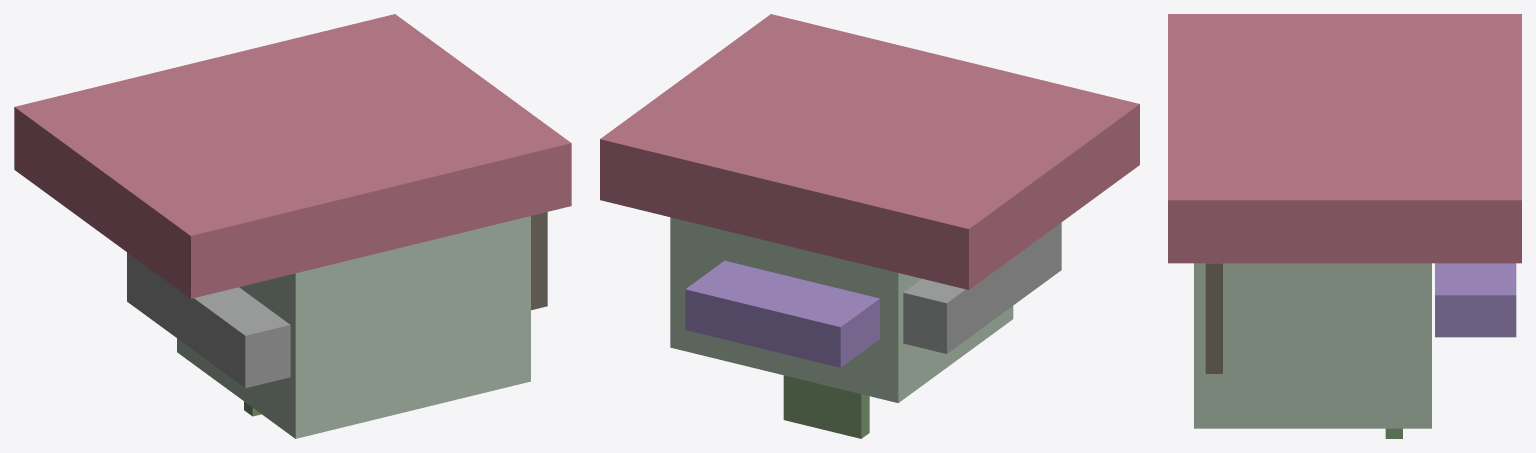
The model's file is 199542_pred.glb.
The picture shows the model from 3 angles, left to right: view 1: azimuth 30°, elevation 25°; view 2: azimuth 150°, elevation 25°; view 3: azimuth 270°, elevation 25°; orthographic projection. The views are drawn at different scales.
Parts seen in each view (by area): view 1: world; view 2: world; view 3: world.
Part boxes in pixels (<box>): world: <box>14,14,571,438</box>; world: <box>600,14,1139,438</box>; world: <box>1168,14,1521,438</box>.
Size of the model in its own units: 7.6 by 5.75 by 6.1.
